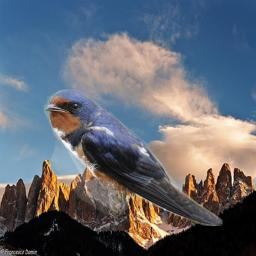Swallow: (43, 89, 223, 226)
